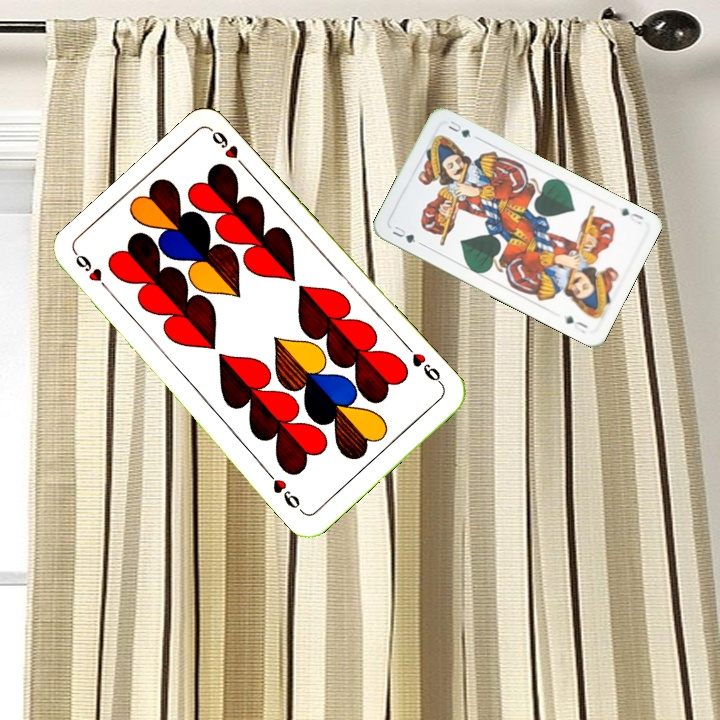GU: (388, 222, 424, 248), (617, 204, 646, 227)
H9: (402, 341, 446, 389), (71, 250, 115, 298)
